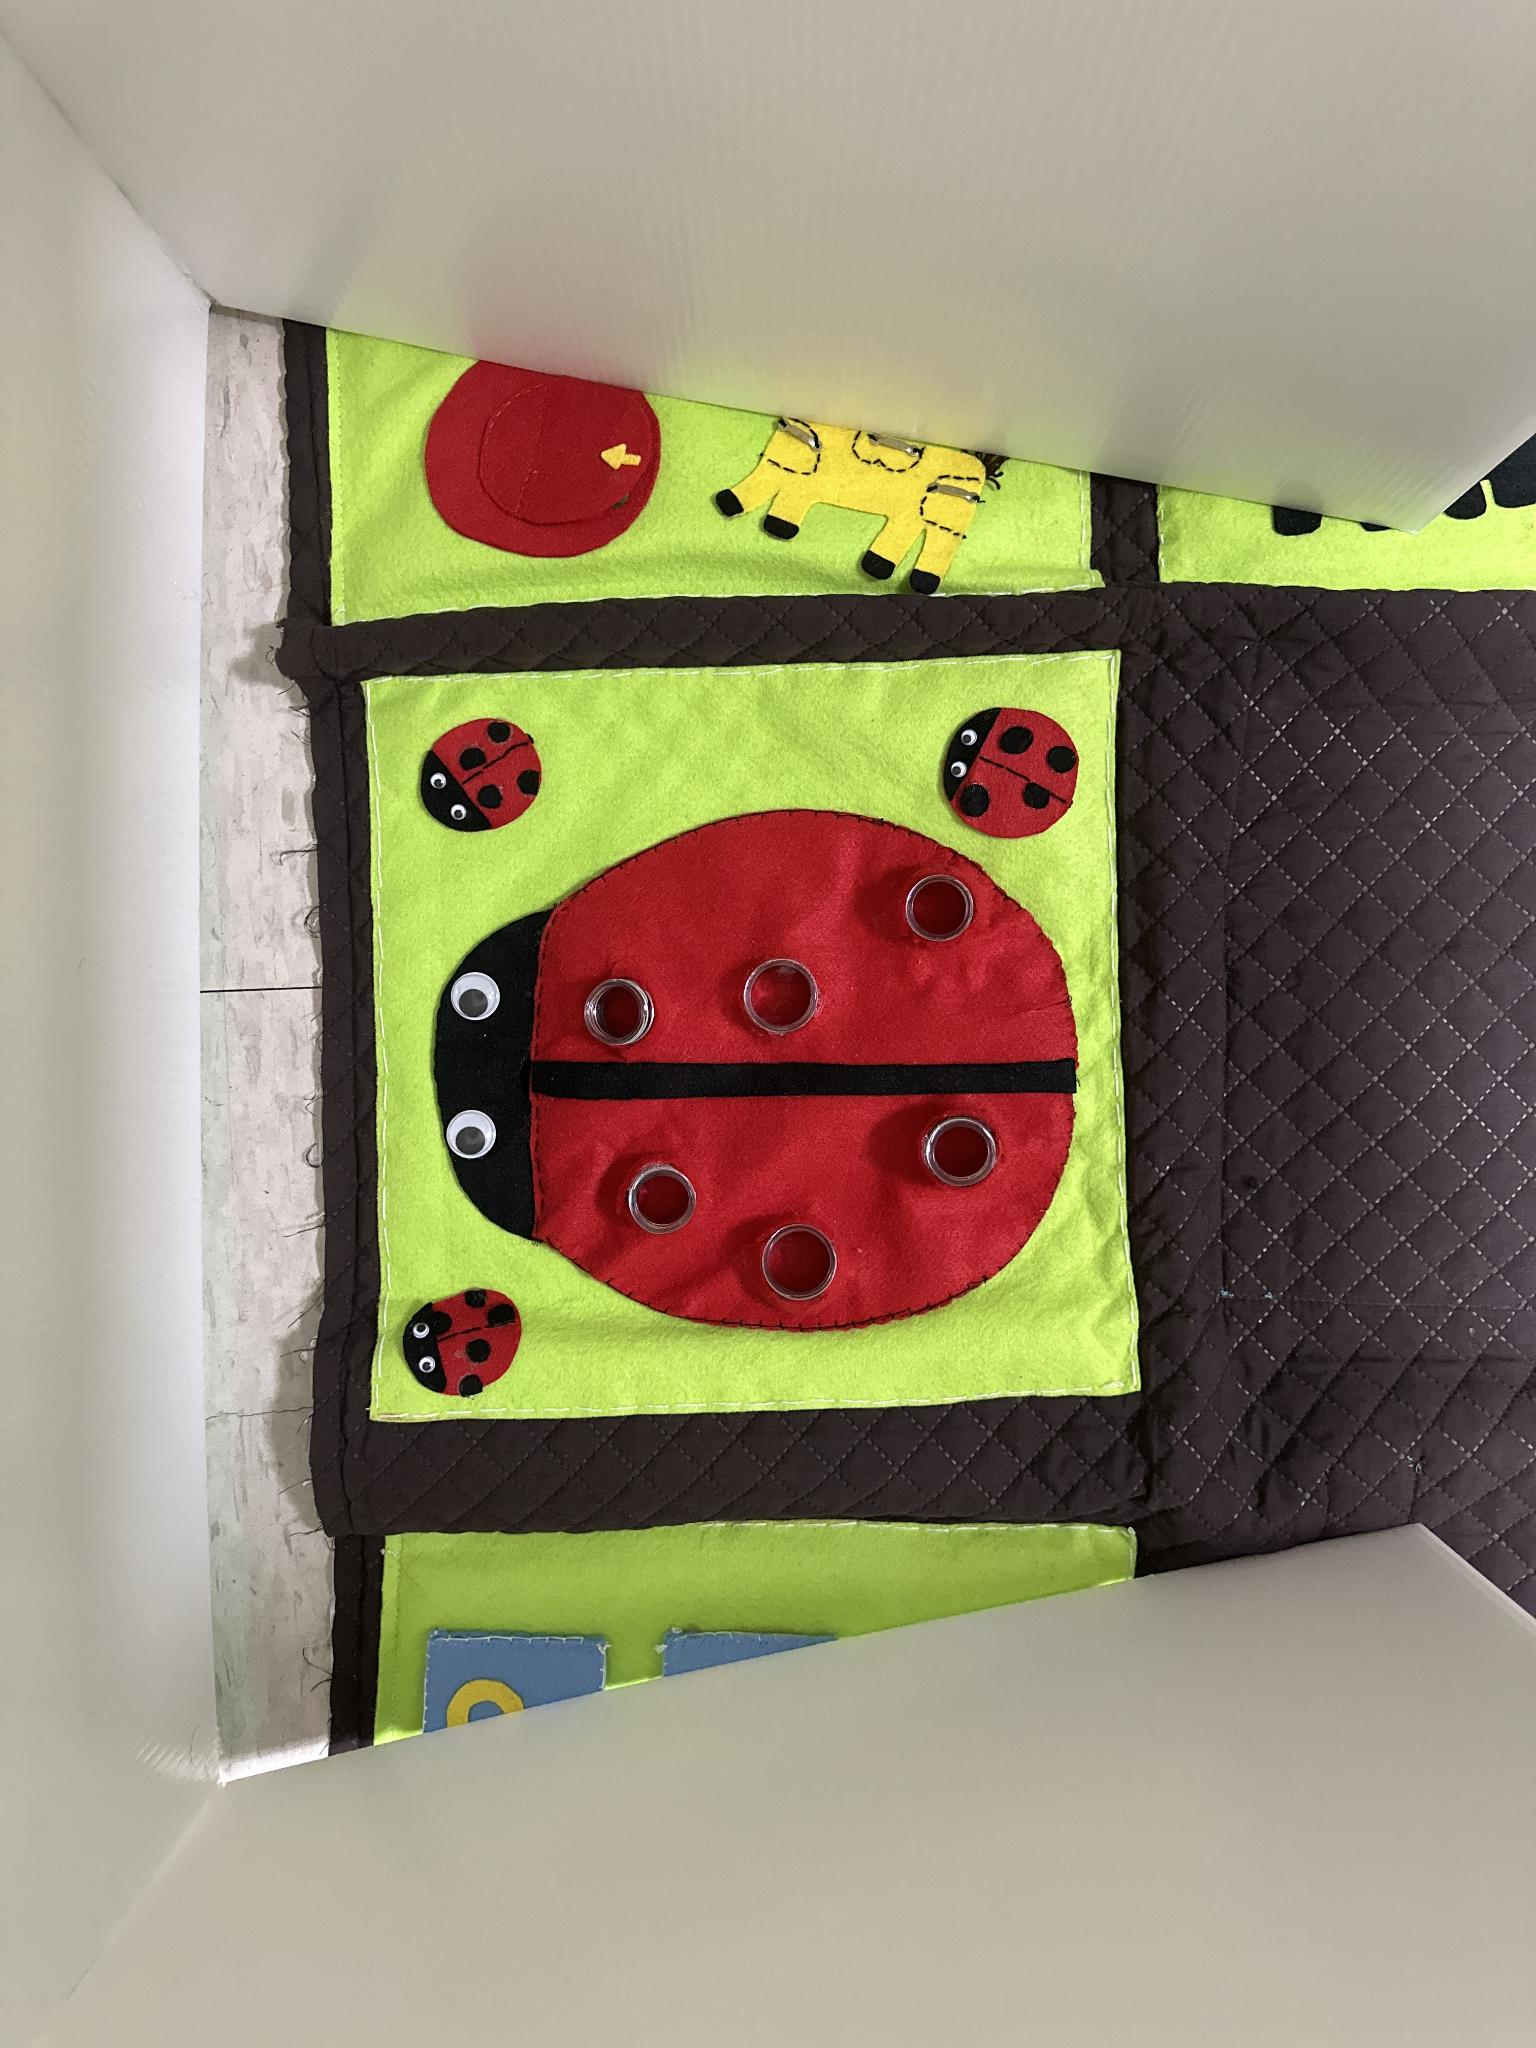hole: (752, 1200, 857, 1317), (920, 1098, 1002, 1195), (726, 956, 828, 1034), (584, 971, 678, 1050), (894, 874, 983, 940), (624, 1159, 705, 1232)
ladybug_case: (432, 808, 1076, 1326)
